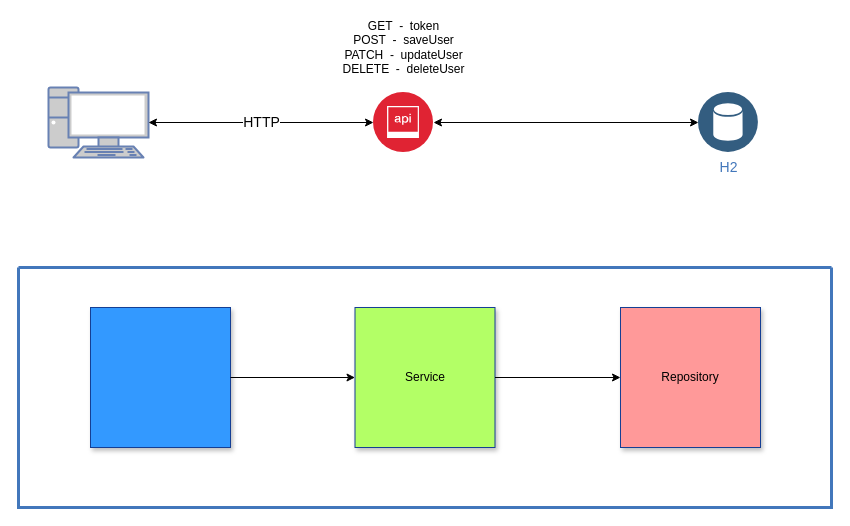
Image size: 850x526. Some labels were removed from this diagram. Here are the shapes that lost their labels. From the top down, the centre of each, then its label:
point (403, 122): nisum-user.api
point (161, 378): Controller
